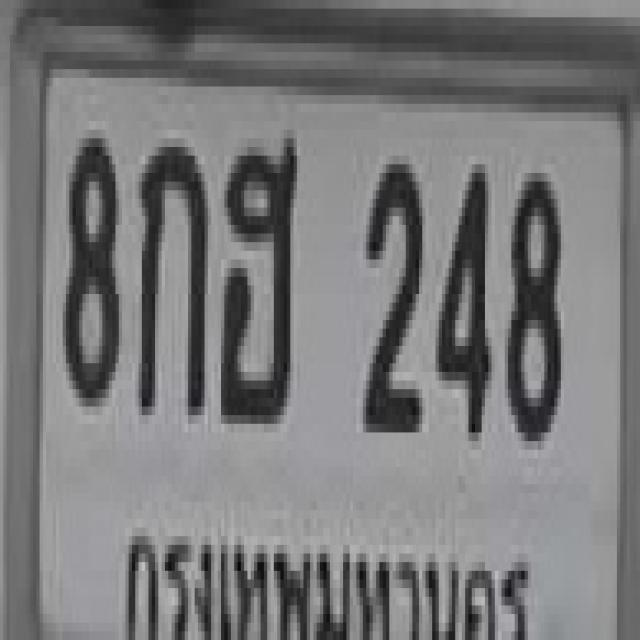-: (218, 130, 294, 415), (135, 138, 205, 406)
2: (360, 156, 419, 424)
4: (432, 156, 488, 432)
8: (60, 130, 116, 398), (504, 165, 558, 432)
BKK: (117, 509, 541, 640)
